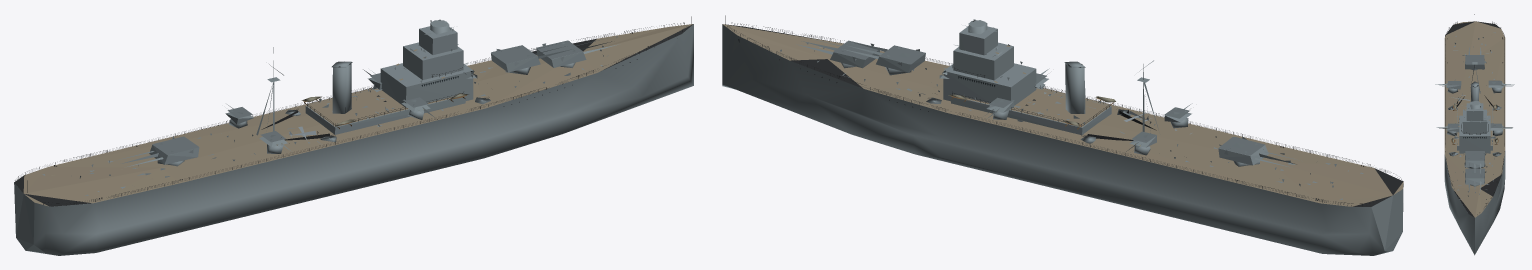
Rendered from scharnhorst_lod.glb.
The picture shows the model from 3 angles, left to right: view 1: azimuth 30°, elevation 25°; view 2: azimuth 150°, elevation 25°; view 3: azimuth 270°, elevation 25°; orthographic projection. The views are drawn at different scales.
Parts seen in each view (by area): view 1: scharnhorst_lod; view 2: scharnhorst_lod; view 3: scharnhorst_lod.
Boxes of the visible parts, x1,y1,x2,y2 form: scharnhorst_lod: (14,16,693,255); scharnhorst_lod: (722,15,1403,255); scharnhorst_lod: (1435,14,1514,255).
Size of the model in its own units: 235 by 47.95 by 42.19.
